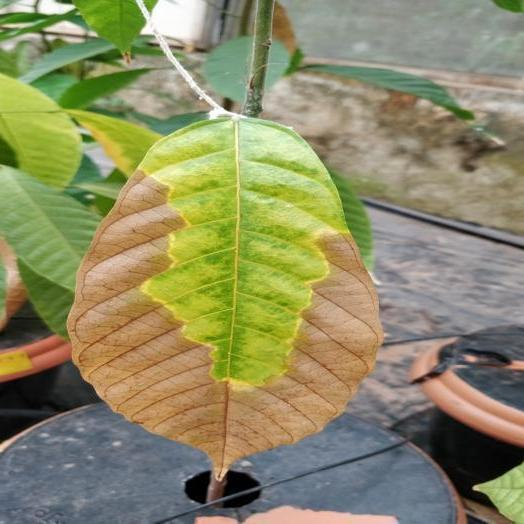Potassium: (68, 113, 381, 480)
